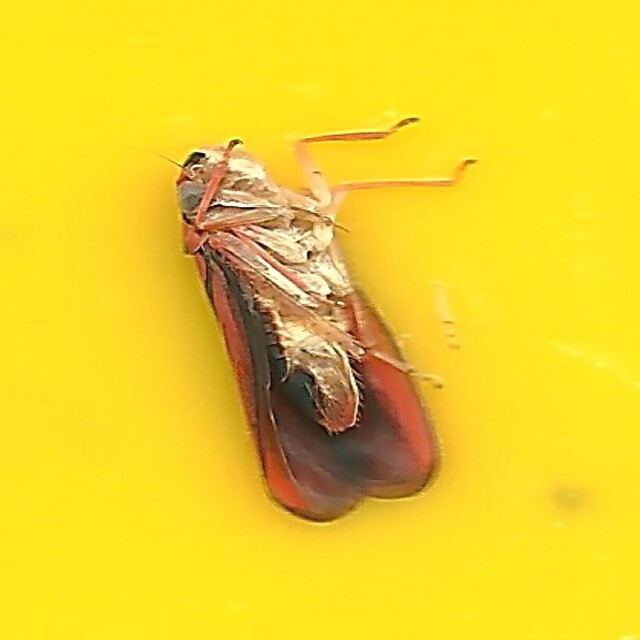Hemiptera: (153, 115, 487, 525)
